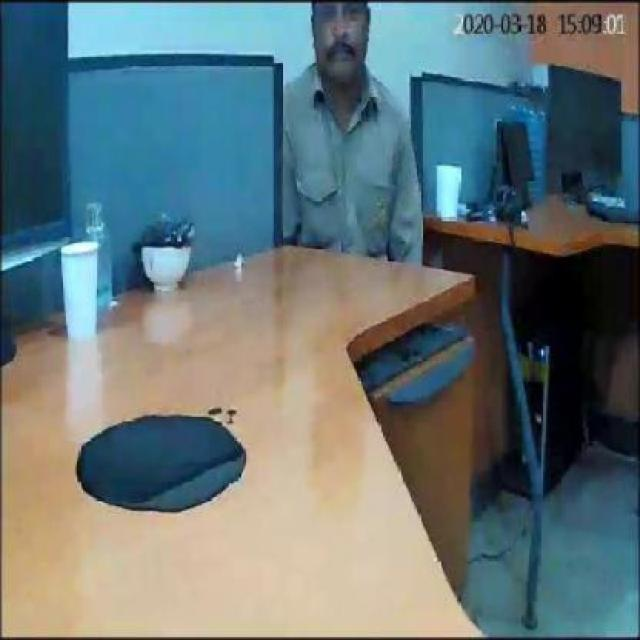spillage: (76, 406, 247, 514)
